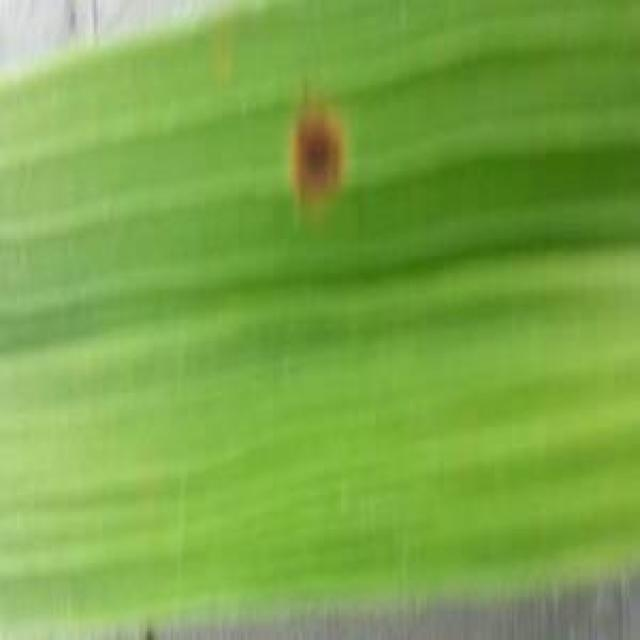Brown_Spot: (281, 83, 362, 211)
